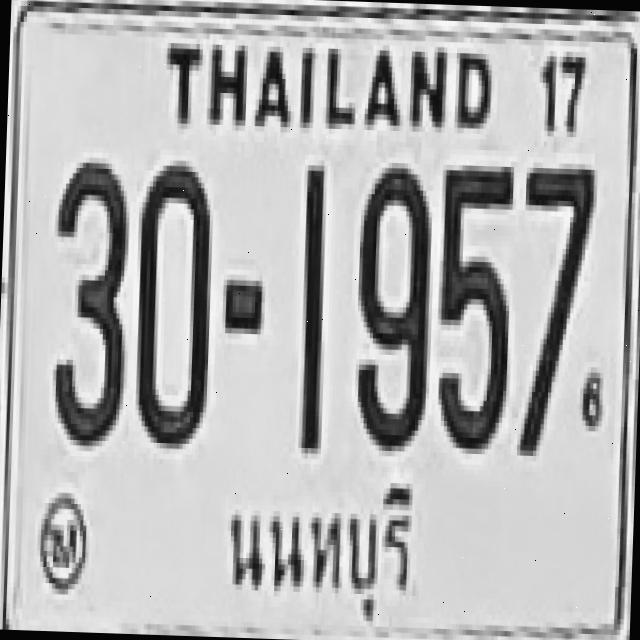0: (130, 160, 214, 450)
1: (294, 162, 328, 450)
3: (47, 156, 131, 446)
5: (433, 162, 514, 452)
7: (515, 162, 596, 458)
9: (349, 162, 434, 446)
Nonthaburi: (216, 466, 429, 634)
